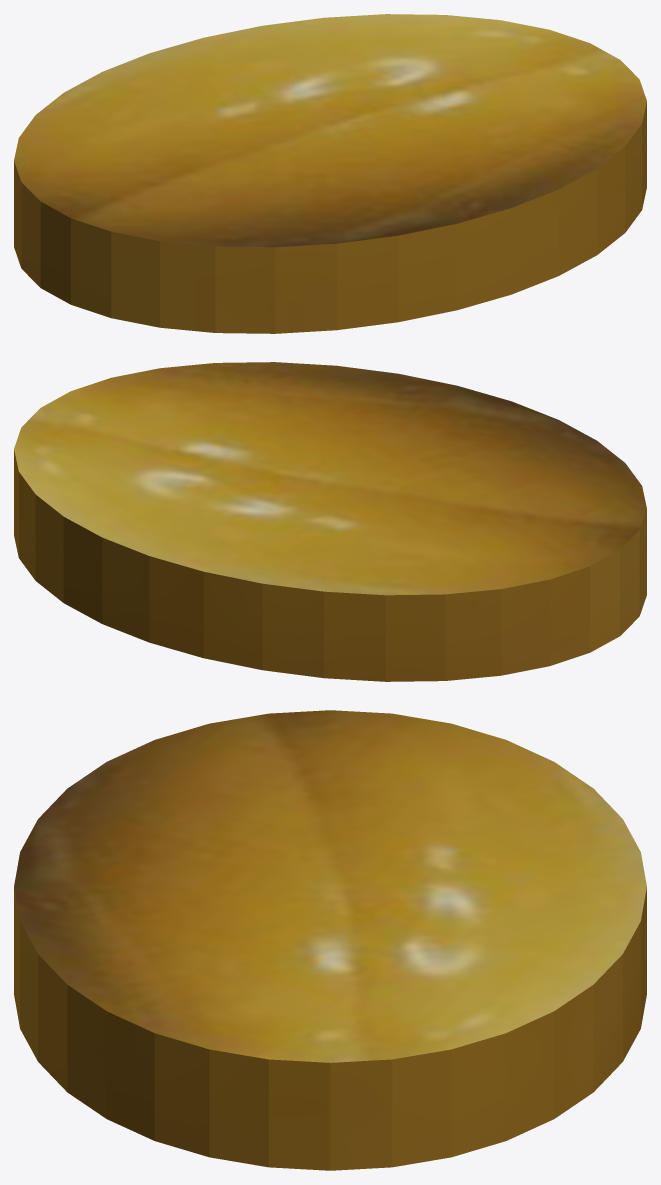
The picture shows the model from 3 angles, top to bottom: view 1: azimuth 30°, elevation 25°; view 2: azimuth 150°, elevation 25°; view 3: azimuth 270°, elevation 25°; orthographic projection. The views are drawn at different scales.
Parts seen in each view (by area): view 1: 圓柱體; view 2: 圓柱體; view 3: 圓柱體.
Part boxes in pixels (x1,y1,x2,y2): 圓柱體: (14, 14, 646, 333); 圓柱體: (14, 362, 646, 681); 圓柱體: (14, 710, 646, 1170).
Size of the model in its own units: 0.7001 by 0.0999 by 0.531.
